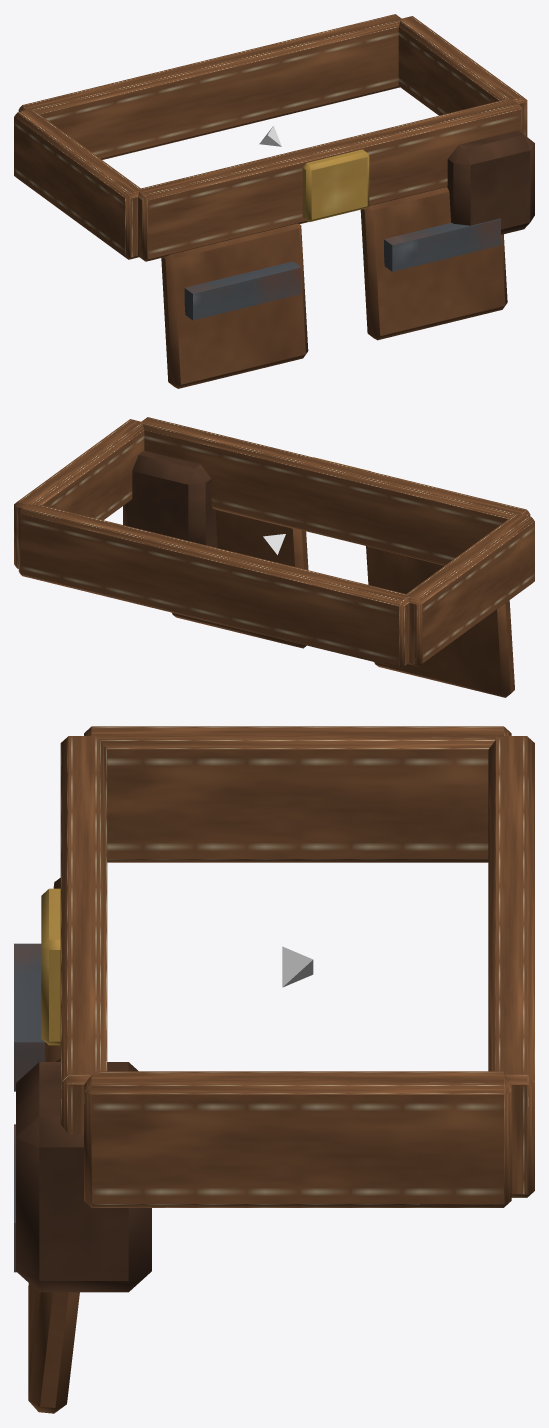
File: ACC_Armor_Belt.fbx
3 views of the same model, one above another, from view 1: azimuth 30°, elevation 25°; view 2: azimuth 150°, elevation 25°; view 3: azimuth 270°, elevation 25° (orthographic). The views are drawn at different scales.
Visible parts, largest first — view 1: ACC_Armor_Belt; view 2: ACC_Armor_Belt; view 3: ACC_Armor_Belt, WaistCenterAttachment_Att.
Boxes of the visible parts, x1,y1,x2,y2 form: ACC_Armor_Belt: (14, 14, 534, 388); ACC_Armor_Belt: (14, 417, 534, 697); ACC_Armor_Belt: (14, 726, 534, 1413); WaistCenterAttachment_Att: (282, 946, 313, 987).
Size of the model in its own units: 2.22 by 1.03 by 1.34.
Materials: 1 (1 with a texture image).
